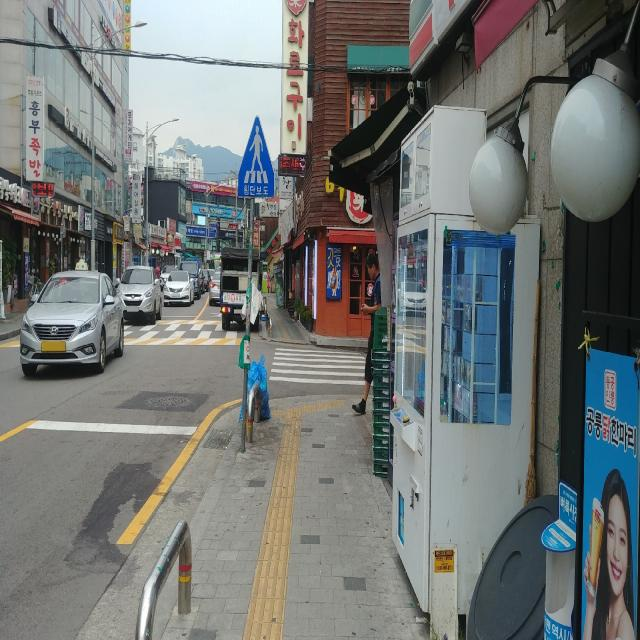횡단보도: (268, 347, 374, 387), (120, 323, 239, 346)
